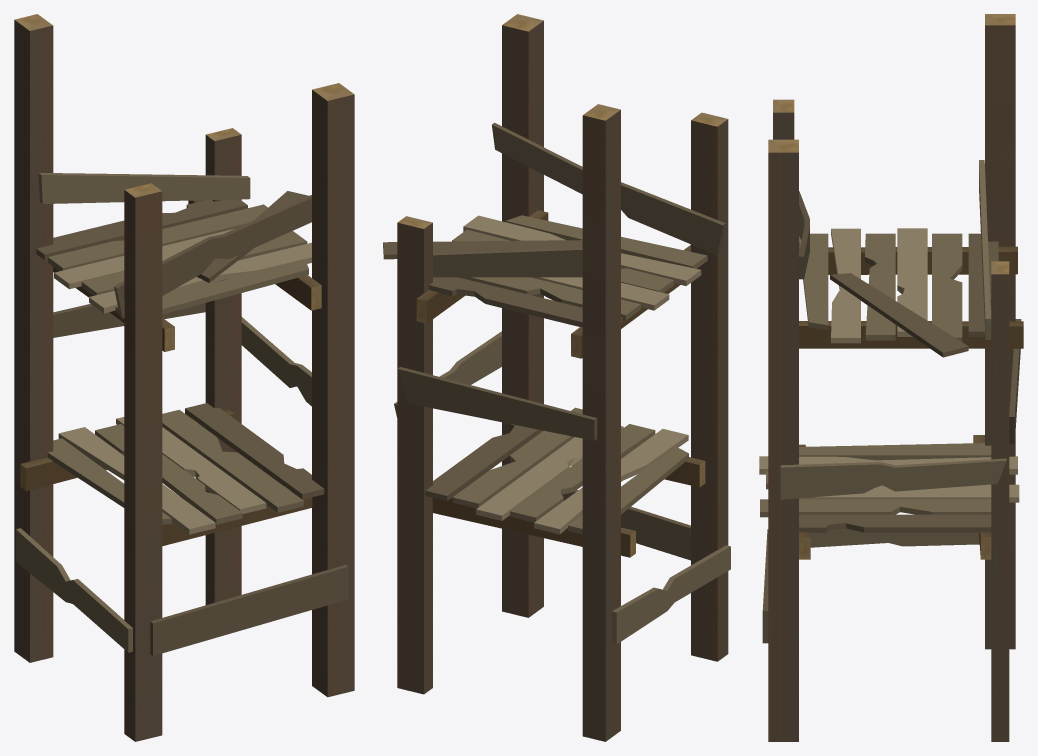
File: Scaffold_1_LOD1.fbx
The picture shows the model from 3 angles, left to right: view 1: azimuth 30°, elevation 25°; view 2: azimuth 150°, elevation 25°; view 3: azimuth 270°, elevation 25°; orthographic projection.
Visible parts, largest first — view 1: polySurface9788; view 2: polySurface9788; view 3: polySurface9788.
Boxes of the visible parts, x1,y1,x2,y2 form: polySurface9788: (14, 14, 354, 741); polySurface9788: (383, 14, 730, 741); polySurface9788: (759, 14, 1023, 741).
Size of the model in its own units: 345 by 763 by 293.
